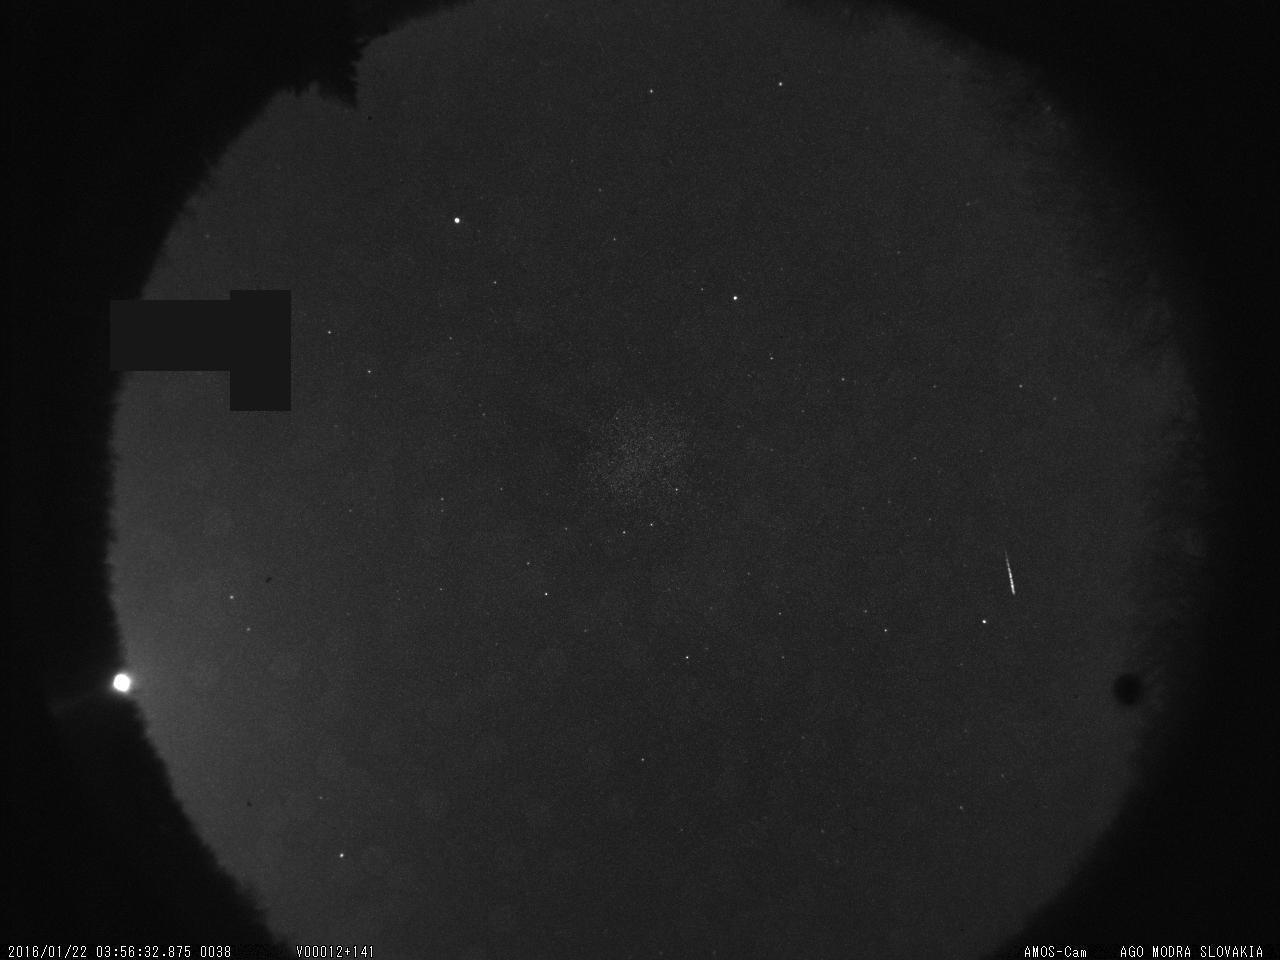meteor: (1000, 544, 1031, 605)
